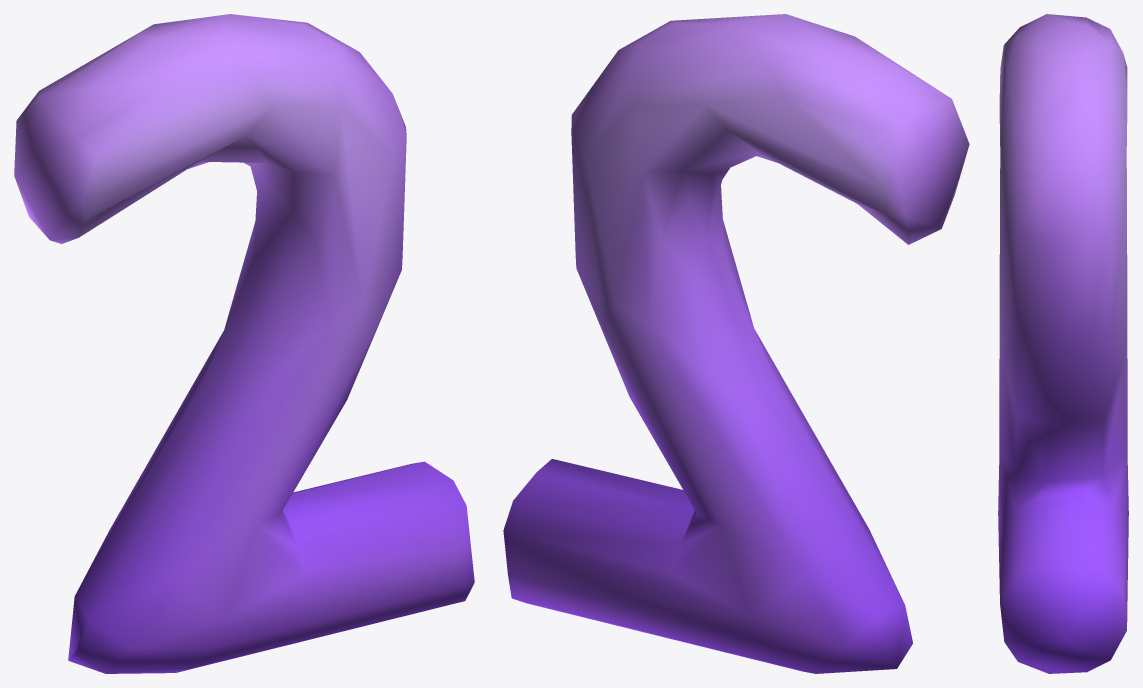
The picture shows the model from 3 angles, left to right: view 1: azimuth 30°, elevation 25°; view 2: azimuth 150°, elevation 25°; view 3: azimuth 270°, elevation 25°; orthographic projection. The views are drawn at different scales.
Parts seen in each view (by area): view 1: Processed_Mesh0_Geometry; view 2: Processed_Mesh0_Geometry; view 3: Processed_Mesh0_Geometry.
Boxes of the visible parts, box(x1,y1,x2,y2) form: Processed_Mesh0_Geometry: box(14, 14, 474, 673); Processed_Mesh0_Geometry: box(503, 14, 969, 673); Processed_Mesh0_Geometry: box(998, 14, 1128, 673).
Size of what is drawn, in the model's own units: 0.0556 by 0.0808 by 0.0179.
1 material, 1 textured.
